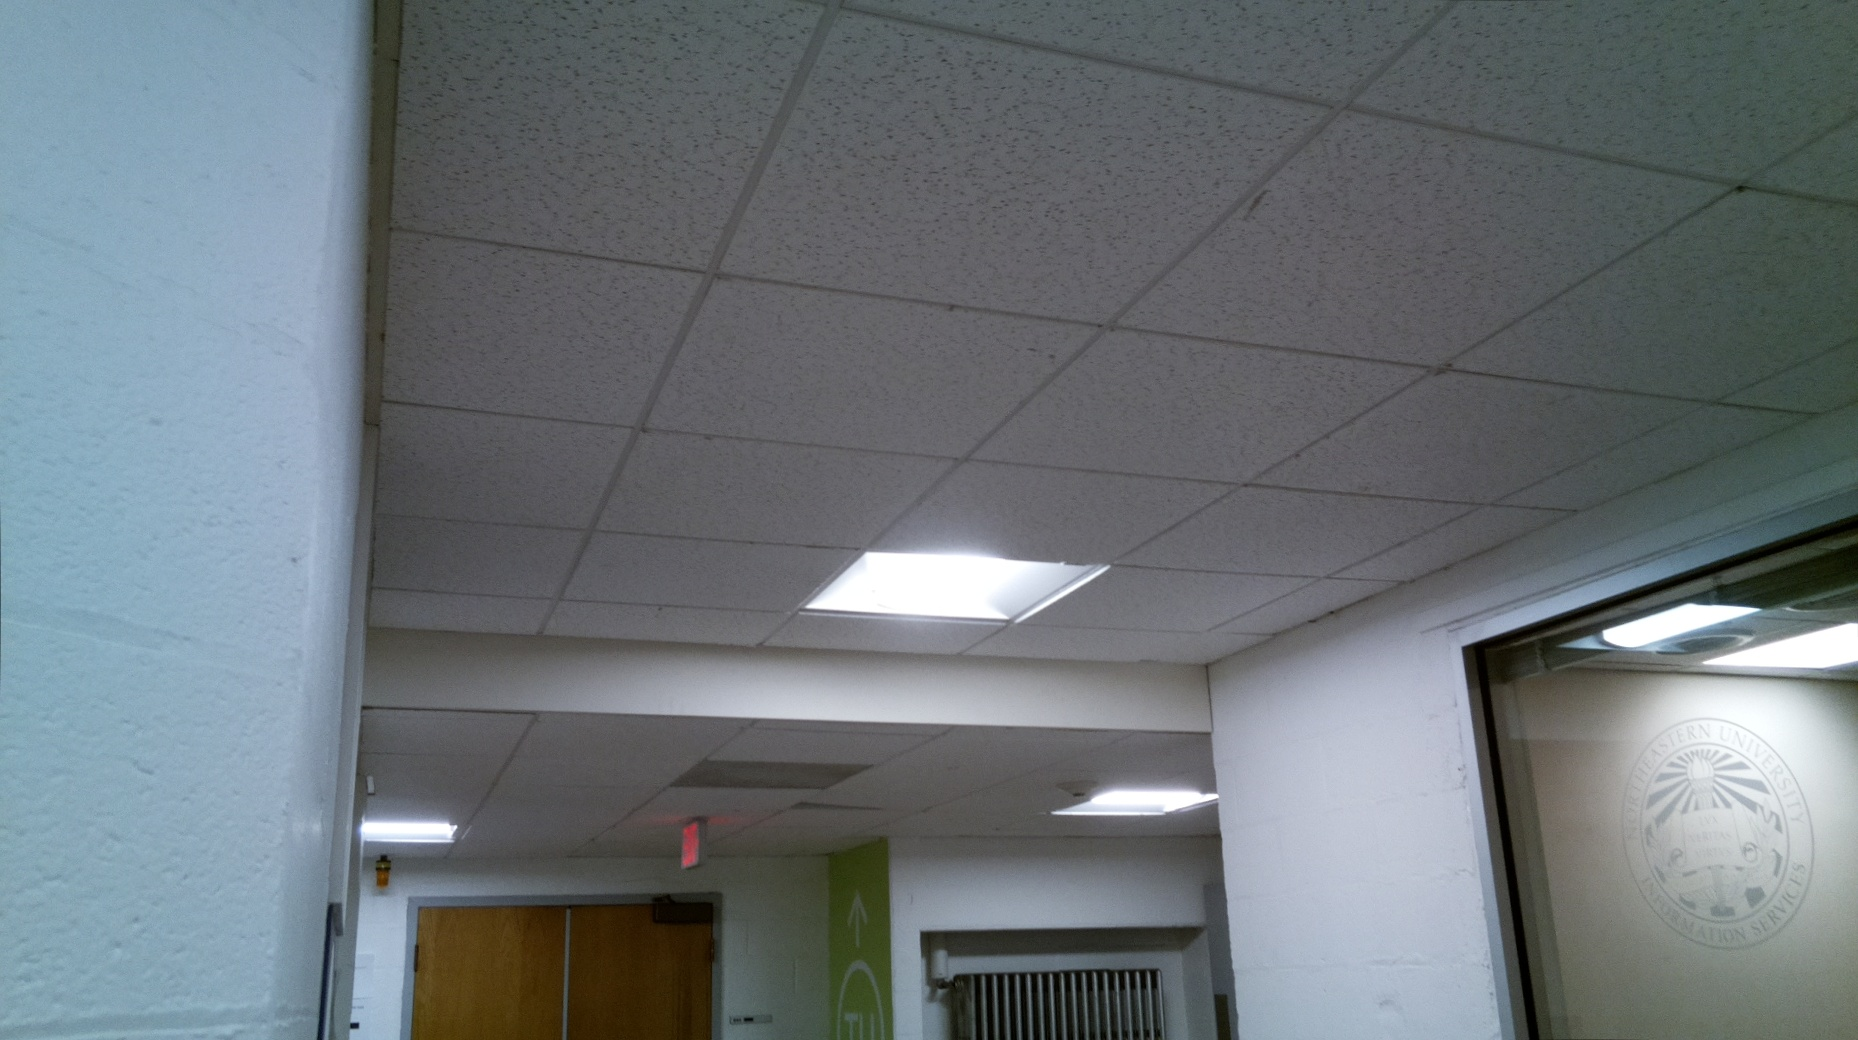exit sign: (675, 813, 711, 875)
